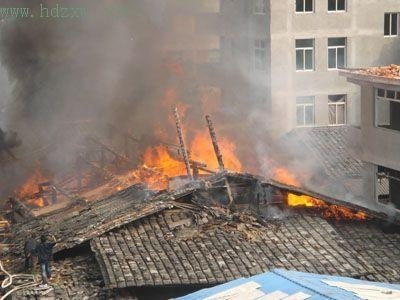fire: (118, 100, 244, 189), (274, 166, 370, 226)
